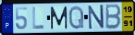5: (15, 7, 28, 31)
B: (105, 4, 122, 31)
L: (32, 7, 45, 31)
M: (50, 6, 69, 31)
N: (87, 4, 105, 31)
Q: (68, 5, 85, 31)
